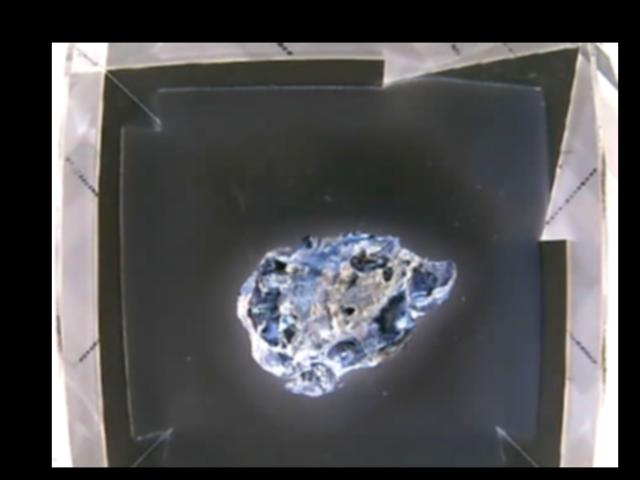Shell: (237, 233, 454, 396)
